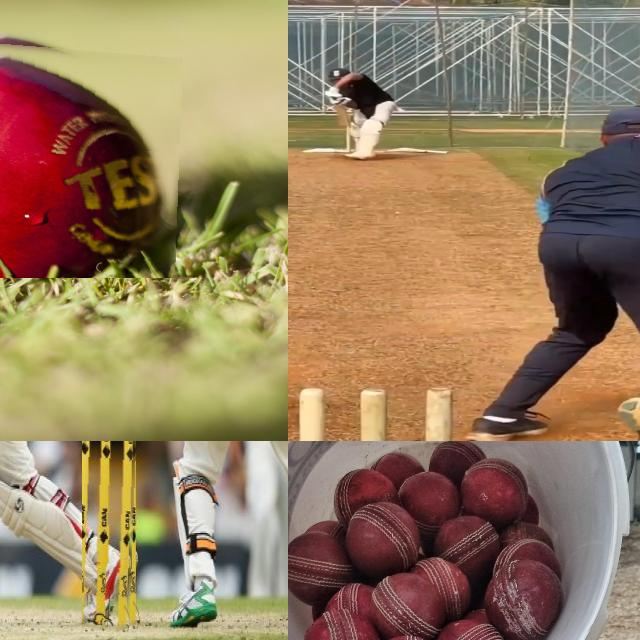Cricket ball: (0, 24, 183, 278), (344, 498, 418, 572), (458, 457, 531, 526), (297, 605, 377, 640)
Stumps: (82, 441, 139, 631), (296, 384, 451, 441)
